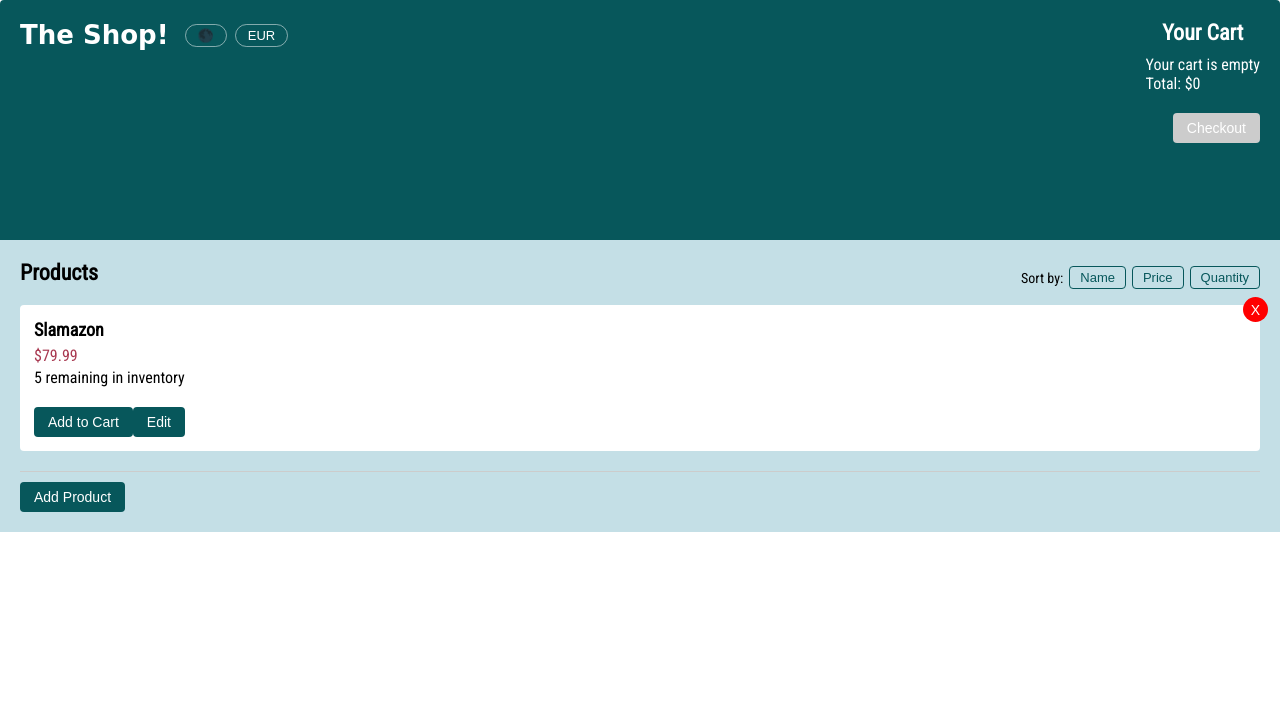
Test: updated product displays new values
The width and height of the screenshot is (1280, 720).
Check: the heading "Slamazon" is shown, box top-left (34, 319), bottom-right (104, 340)
Click the button "Edit" at (159, 422), box top-left (133, 407), bottom-right (185, 437)
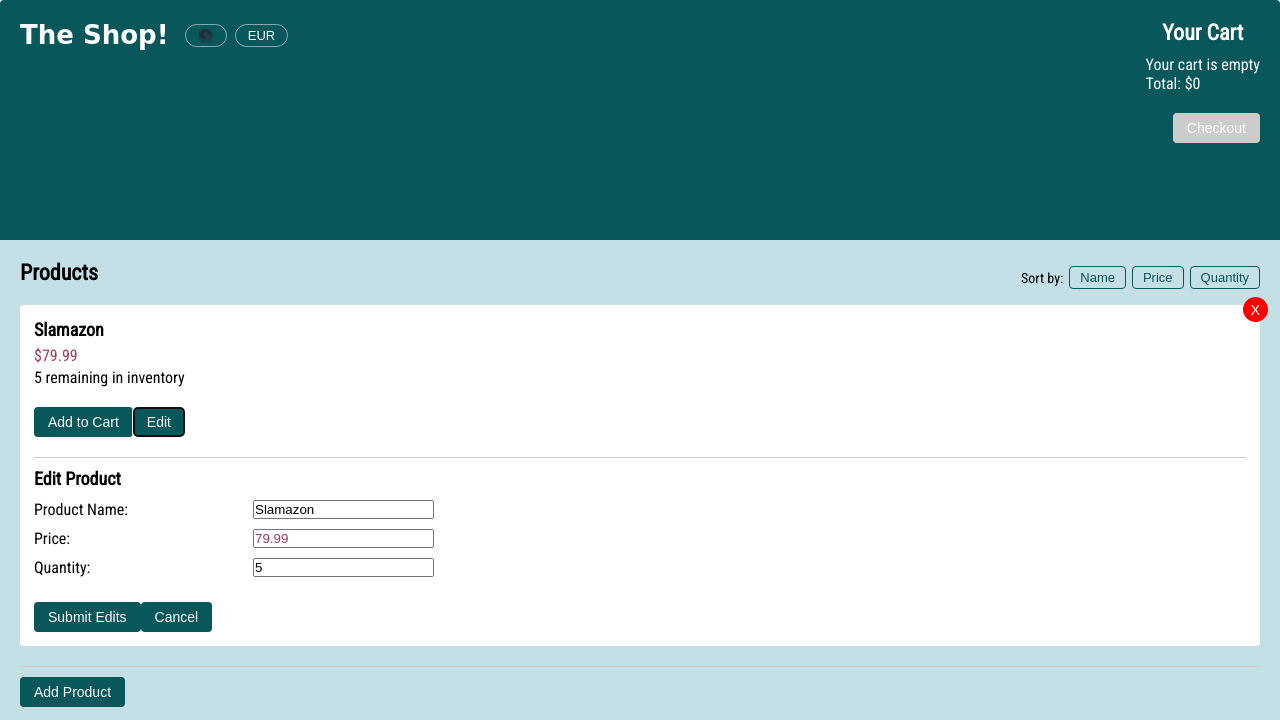
Check: the field labelled "Product Name: Product Name:" is shown
Type "2" into the field labelled "Product Name: Product Name:" at (344, 510), box top-left (253, 500), bottom-right (434, 519)
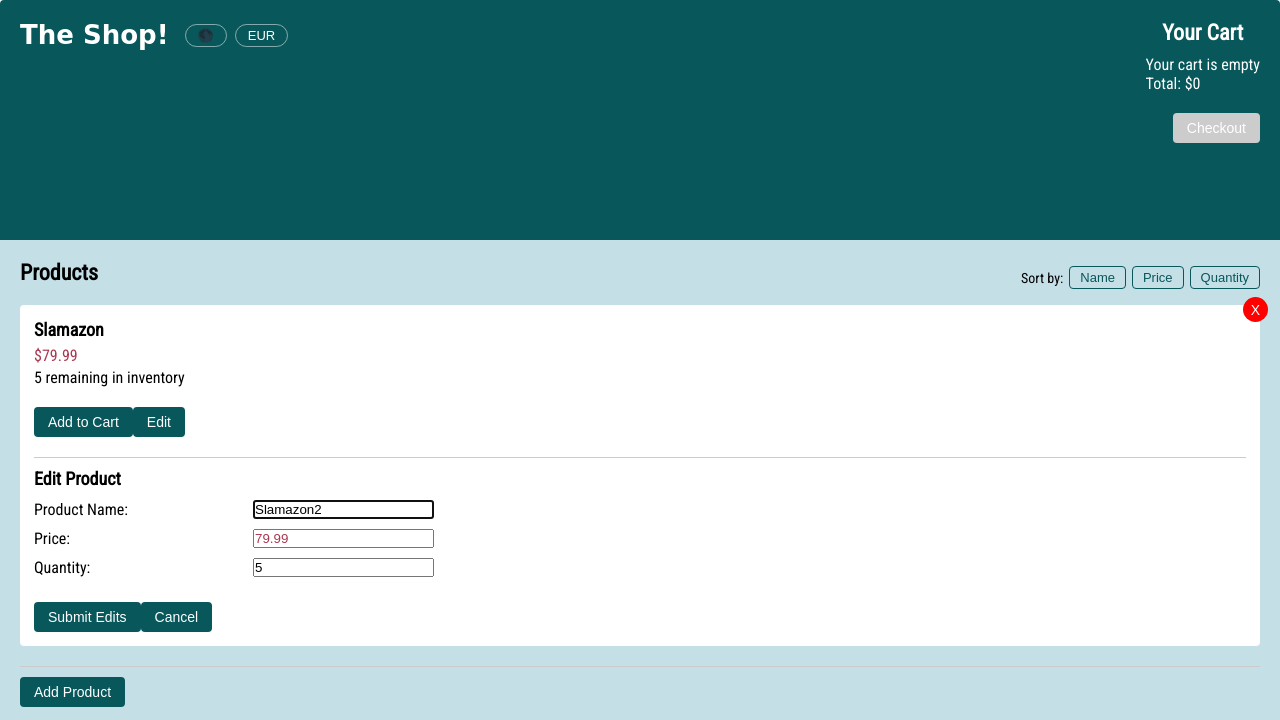
Click the button "Submit Edits" at (87, 617), box top-left (34, 602), bottom-right (141, 632)
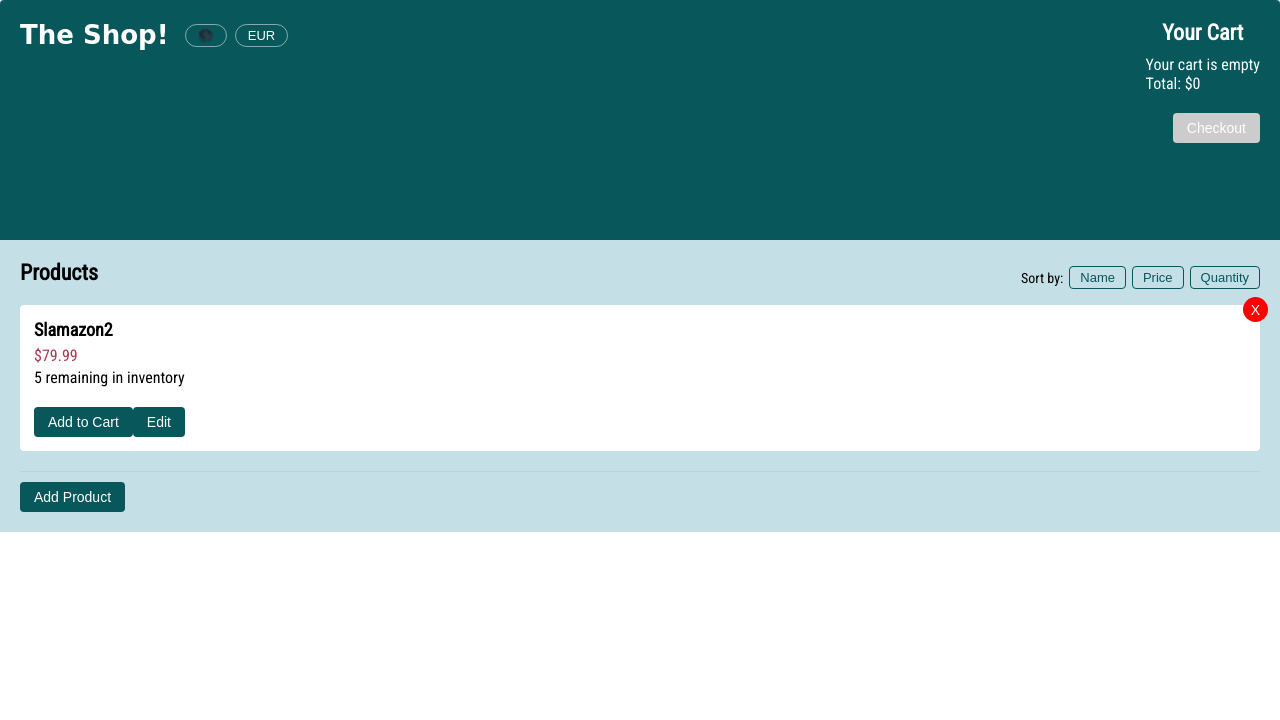
Check: the heading "Slamazon2" is shown, box top-left (34, 319), bottom-right (113, 340)
Check: the heading "Edit Product" is gone
